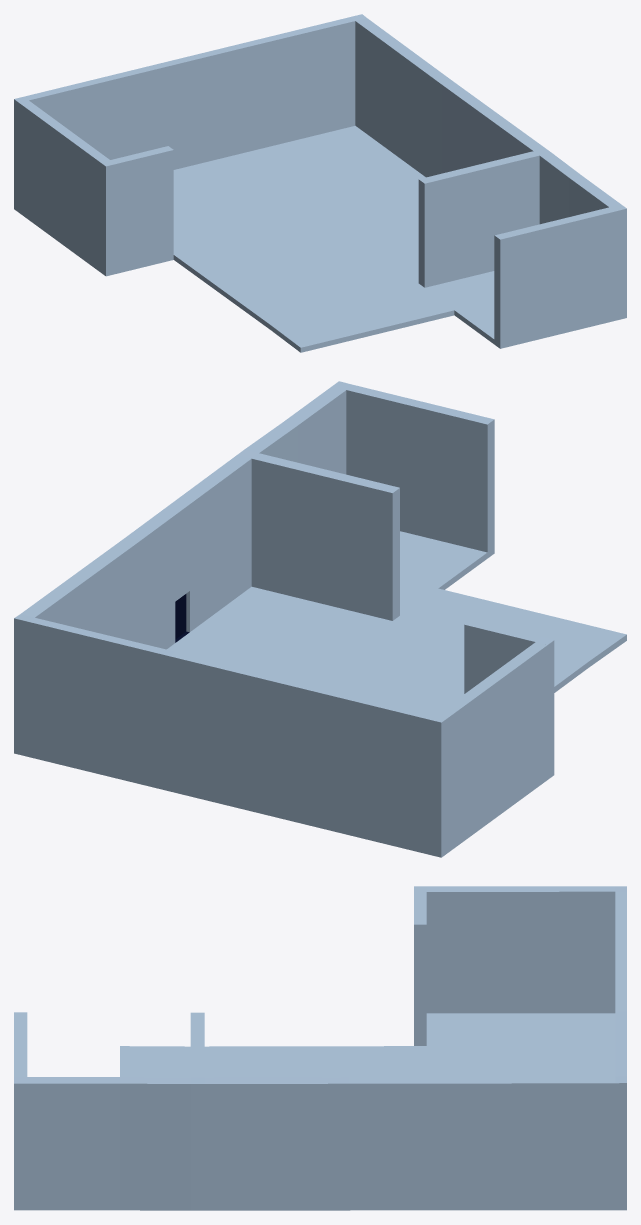
Rendered from WarehouseLayout.fbx.
3 renders of one model, top to bottom at view 1: azimuth 30°, elevation 25°; view 2: azimuth 150°, elevation 25°; view 3: azimuth 270°, elevation 25°, orthographic. The views are drawn at different scales.
Parts seen in each view (by area): view 1: Warehouse; view 2: Warehouse; view 3: Warehouse.
Boxes of the visible parts, box(x1,y1,x2,y2) form: Warehouse: box(14, 14, 626, 352); Warehouse: box(14, 381, 626, 857); Warehouse: box(14, 886, 626, 1210).
Size of the model in its own units: 3694 by 1114 by 4854.
